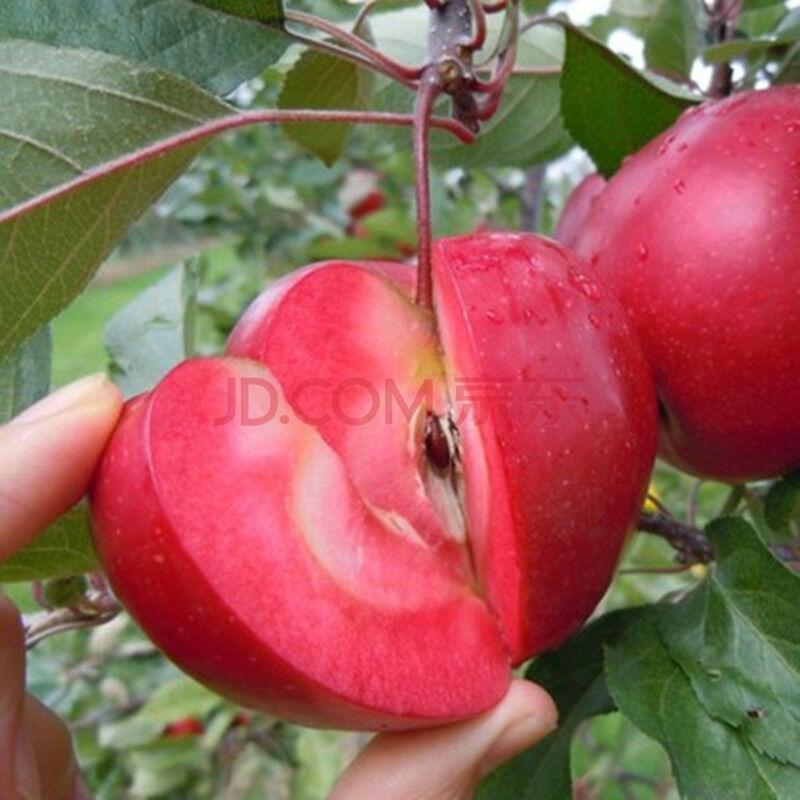apple: (92, 213, 632, 718), (580, 99, 791, 494)
